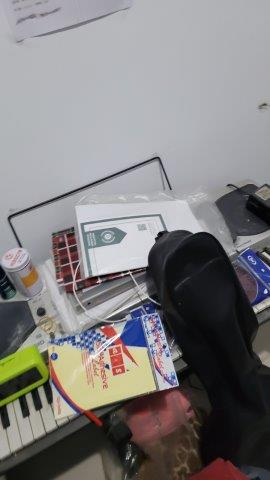kertas: (72, 199, 203, 276)
